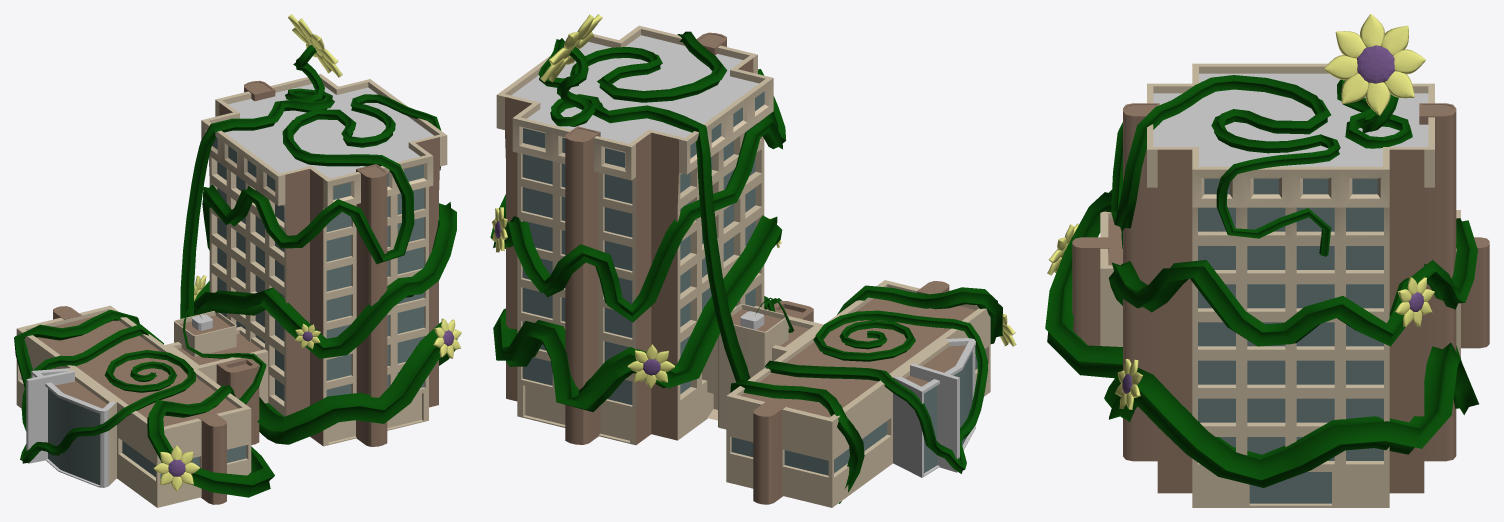
Rendered from MO_BAL_Final.fbx.
3 renders of one model, left to right at view 1: azimuth 30°, elevation 25°; view 2: azimuth 150°, elevation 25°; view 3: azimuth 270°, elevation 25°, orthographic. The views are drawn at different scales.
Parts seen in each view (by area): view 1: Building_BAL, vine1, vine4, vine2, vine3, flower6, flower1, flower2; view 2: Building_BAL, vine1, vine4, vine2, vine3, flower5, flower1; view 3: Building_BAL, vine1, flower1, vine3, vine2, flower4, flower2, flower6.
Part boxes in pixels (x1,y1,x2,y2): Building_BAL: (16, 74, 447, 507); vine1: (194, 94, 457, 444); vine4: (14, 309, 195, 463); vine2: (180, 45, 334, 318); vine3: (147, 306, 274, 497); flower6: (153, 445, 199, 491); flower1: (288, 14, 342, 77); flower2: (433, 318, 461, 358); Building_BAL: (496, 25, 990, 507); vine1: (490, 31, 786, 411); vine4: (730, 310, 988, 503); vine2: (550, 47, 750, 381); vine3: (756, 285, 1002, 343); flower5: (627, 344, 674, 388); flower1: (540, 14, 602, 82); Building_BAL: (1072, 63, 1489, 507); vine1: (1104, 75, 1478, 487); flower1: (1324, 14, 1425, 115); vine3: (1045, 190, 1122, 378); vine2: (1337, 79, 1412, 148); flower4: (1394, 277, 1434, 326); flower2: (1115, 359, 1142, 409); flower6: (1047, 223, 1078, 275).
Size of the model in its own units: 21.67 by 18.69 by 16.41.
